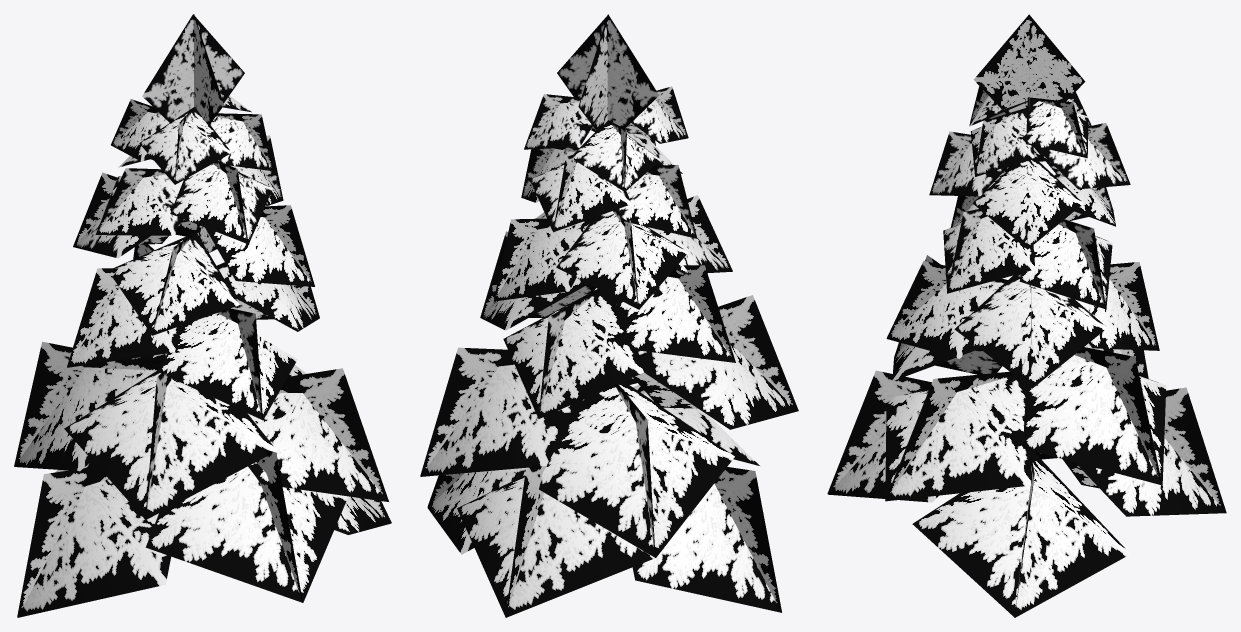
Rendered from blad.obj.
3 views of the same model, side by side, from view 1: azimuth 30°, elevation 25°; view 2: azimuth 150°, elevation 25°; view 3: azimuth 270°, elevation 25° (orthographic). The views are drawn at different scales.
Parts seen in each view (by area): view 1: blad; view 2: blad; view 3: blad.
Boxes of the visible parts, <box> form: blad: <box>14,14,391,617</box>; blad: <box>420,14,798,617</box>; blad: <box>827,14,1226,617</box>.
Bounding box in the file's own units: 107 × 157 × 108.
